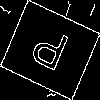P: (25, 25, 71, 81)
